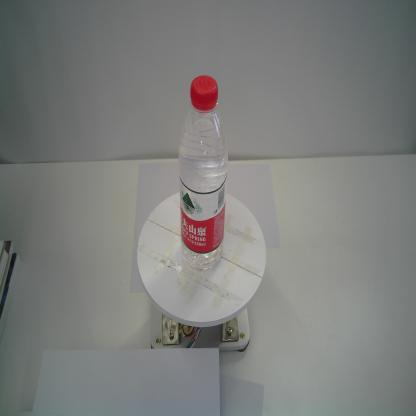Drink: (176, 73, 230, 272)
